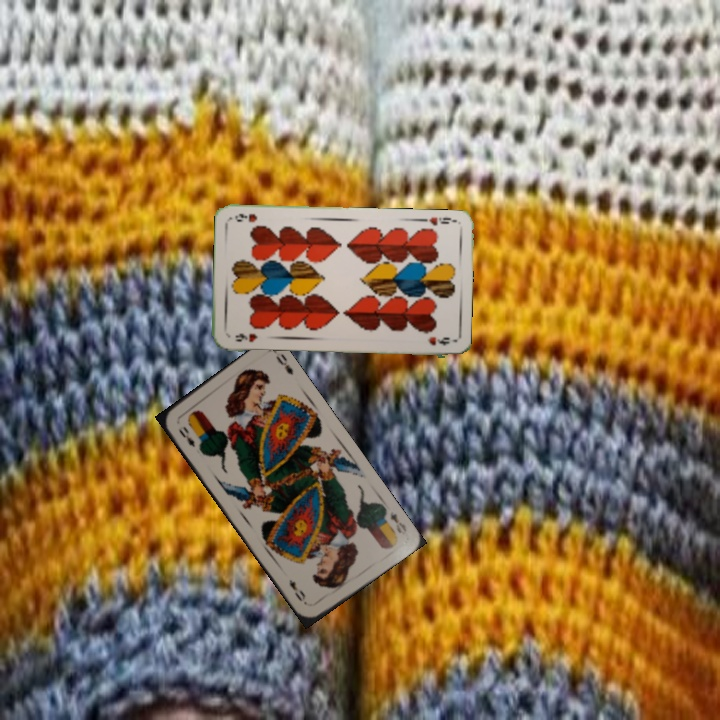EO: (386, 507, 409, 538), (174, 422, 198, 450)
H9: (418, 213, 453, 228), (232, 329, 260, 344)
